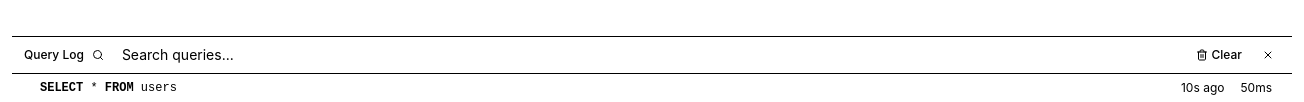
Test: QueryLog visual + UX invariants (sprint-372 rewrite) › shows 'No matching queries' when the search filter excludes everything
Expected: the button with test id "query-log-row-1" is shown, [12,74,1292,101]
Type "nonexistent" into the field with placeholder "Search queries..." at (646, 55), box [110,45,1182,65]
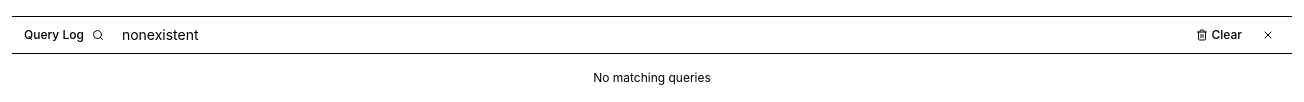
Expected: the text "No matching queries" is shown, [593,70,711,85]
